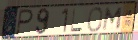1: (61, 7, 70, 35)
9: (35, 7, 51, 37)
L: (69, 8, 83, 33)
M: (101, 6, 125, 32)
O: (86, 6, 104, 33)
P: (15, 9, 35, 37)
